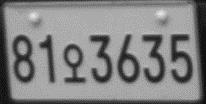1: (37, 33, 55, 84)
3: (88, 34, 112, 82), (142, 33, 165, 83)
5: (169, 33, 193, 83)
6: (116, 32, 140, 82)
8: (11, 34, 35, 82)
오: (63, 43, 86, 84)
